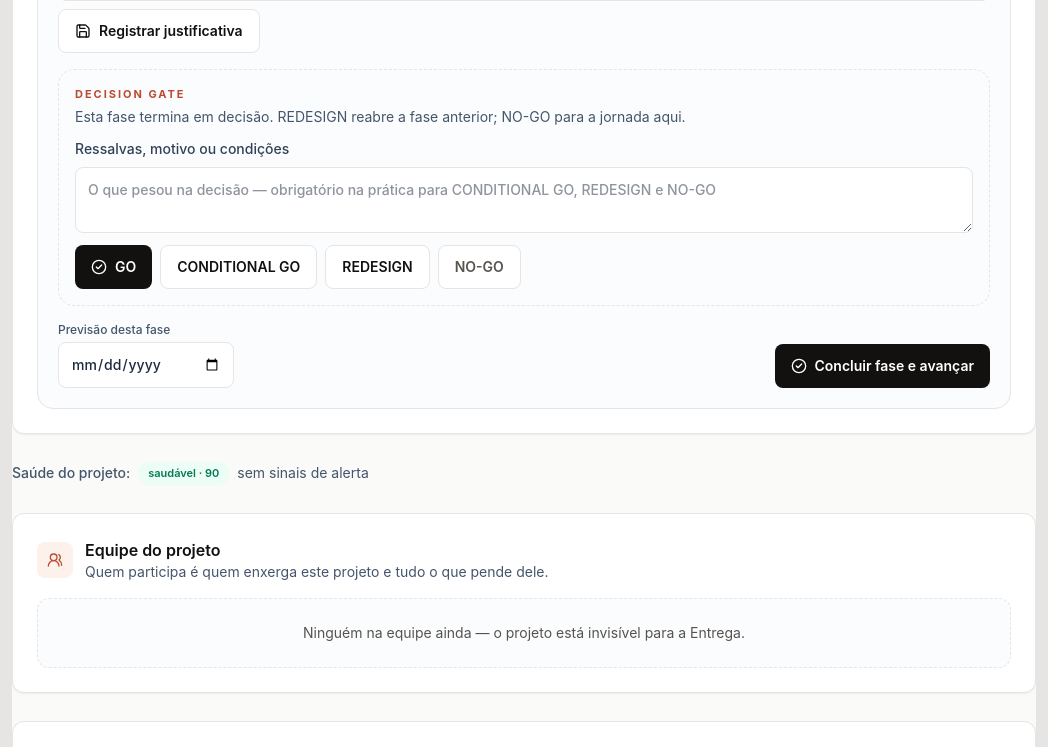
Test: mostra o selo do gate na fase que já decidiu, e a recusa 409 do avanço
The image size is (1048, 747).
(page scrolled)
Click the button "Concluir fase e avançar" at (882, 366), box [774,344,990,388]
(page scrolled)
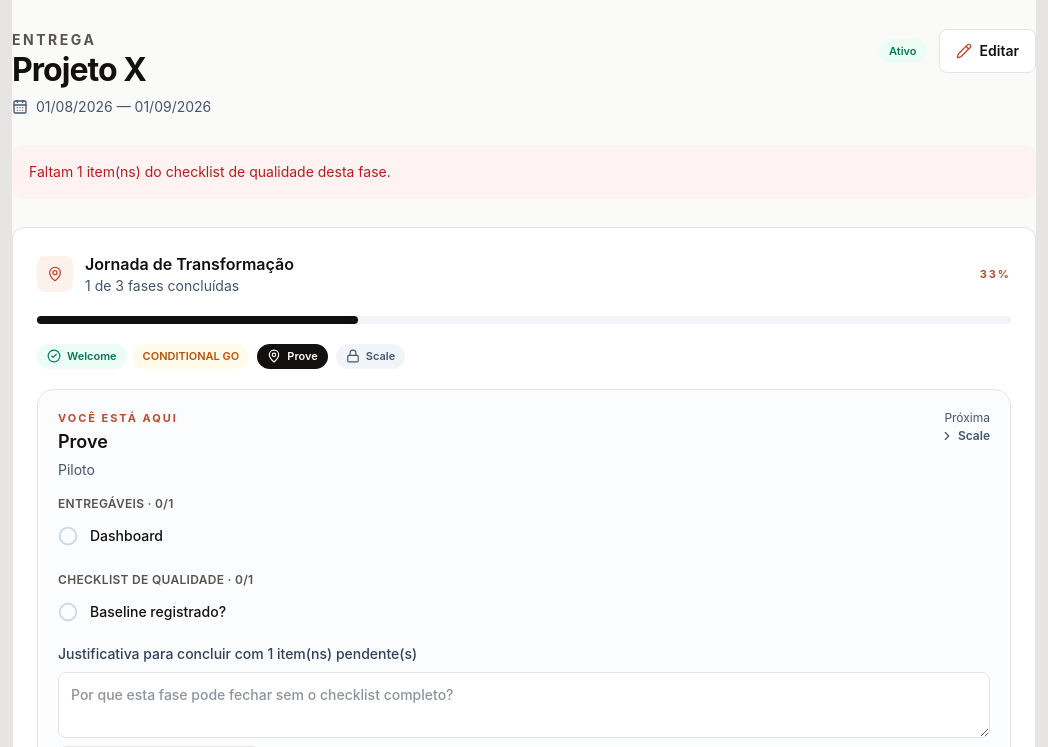
Result: the message shows "Faltam 1 item(ns)" at [29,163,391,180]
